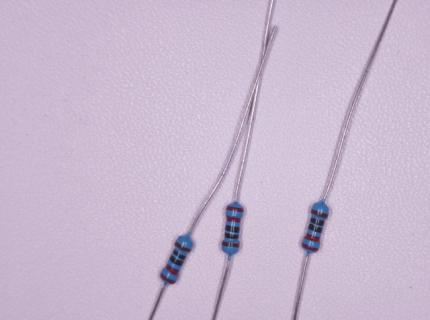Black band: (169, 255, 184, 266), (173, 249, 186, 260), (310, 217, 325, 226), (309, 224, 323, 233), (225, 225, 239, 233), (225, 232, 239, 239)
Brown band: (175, 241, 191, 253), (311, 208, 329, 218), (222, 241, 239, 248)
Red band: (160, 272, 176, 284), (302, 242, 319, 252), (165, 264, 180, 275), (304, 232, 320, 242), (226, 206, 244, 213), (226, 216, 241, 223)
